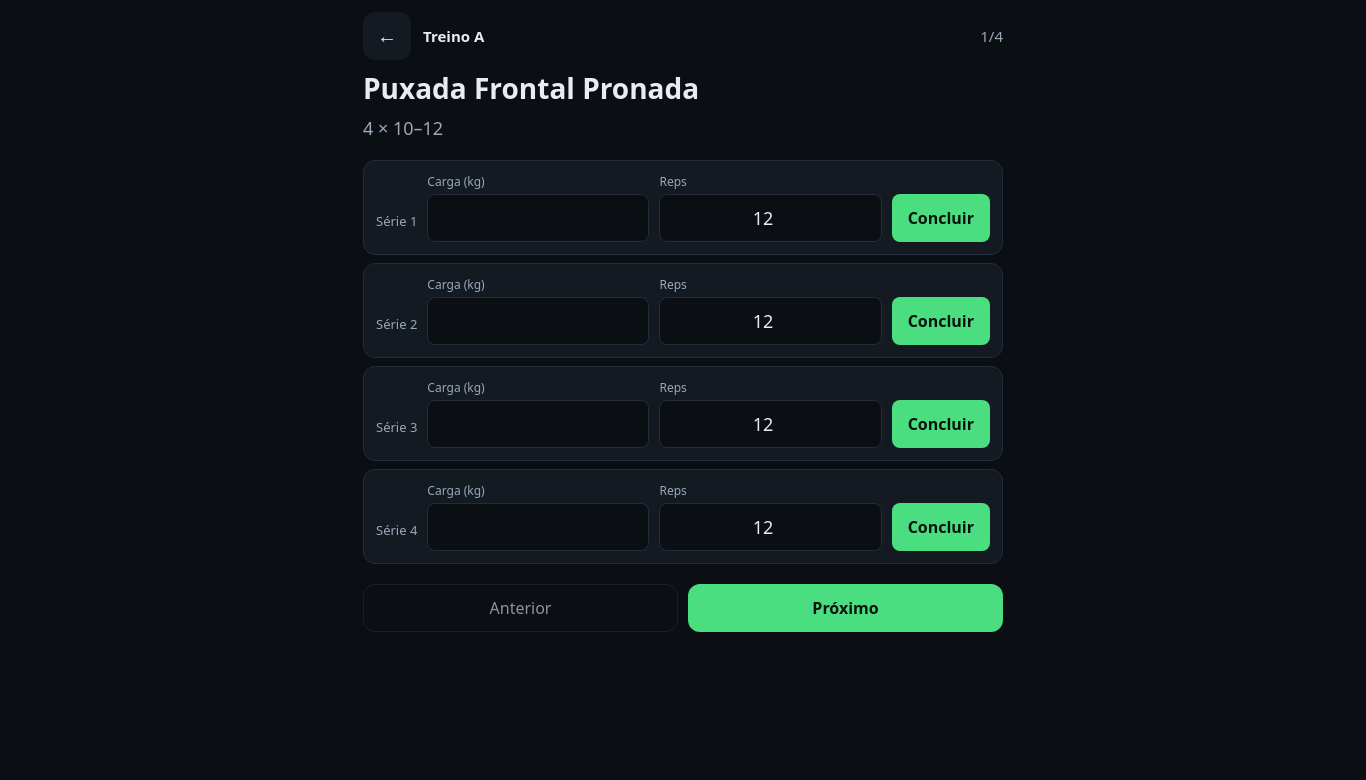
Test: ExecucaoTreino › o cronômetro dispara sozinho › conta o tempo e avisa quando pode voltar
Click the button with aria-label "Concluir série 1" at (941, 218), box left=892, top=194, right=990, bottom=242
Wait 61000 ms
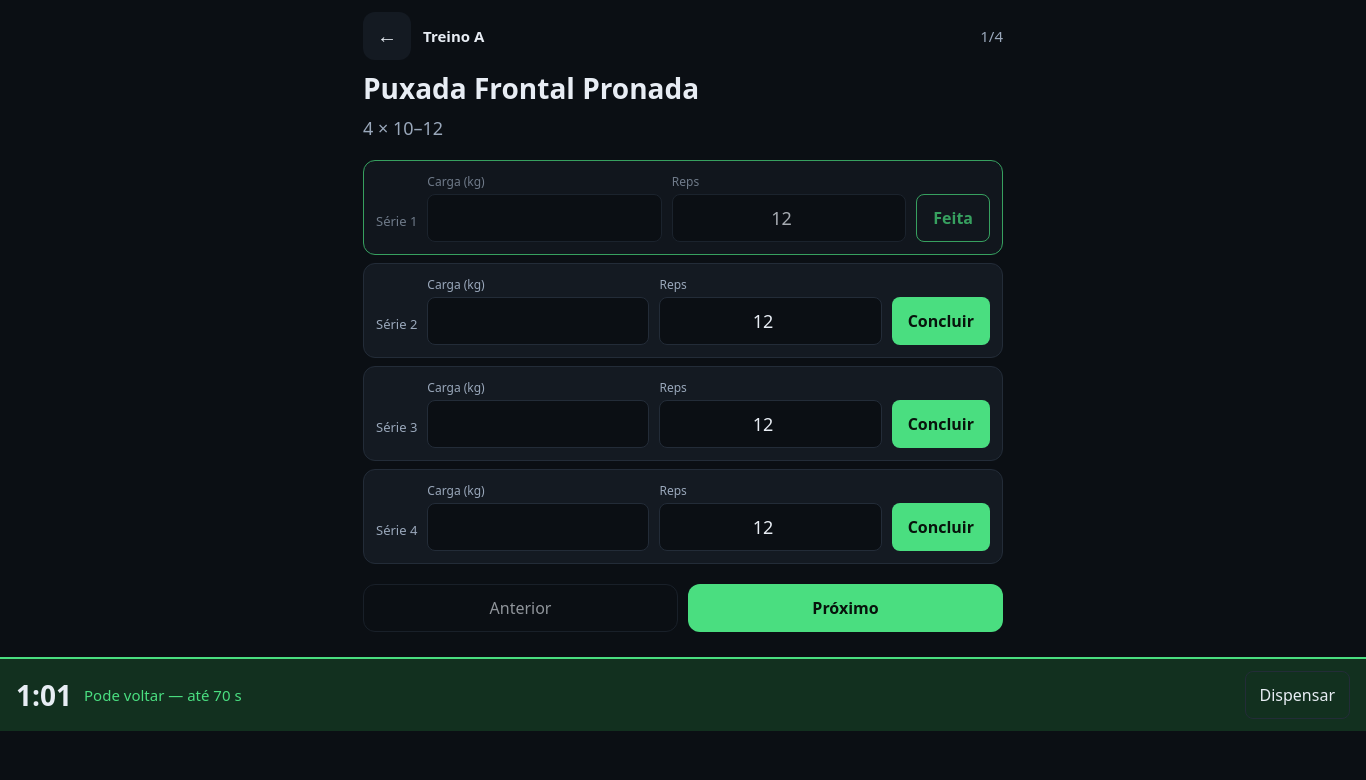
Now the element showing "1:01 Pode voltar — até 70 s Dispensar" is shown, box left=0, top=657, right=1365, bottom=731
